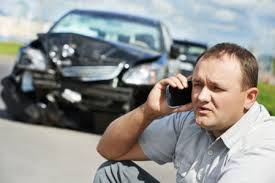Smashed: (10, 34, 142, 121)
